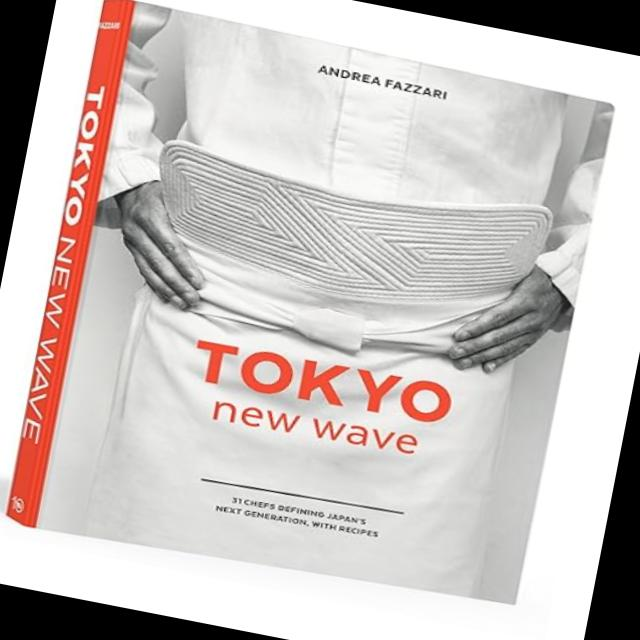titles-or-authors: (172, 328, 468, 472), (299, 49, 460, 109)
